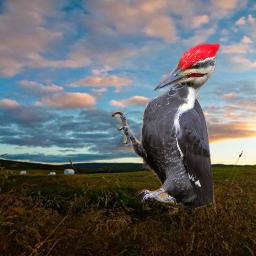Woodpecker: (110, 42, 220, 210)
